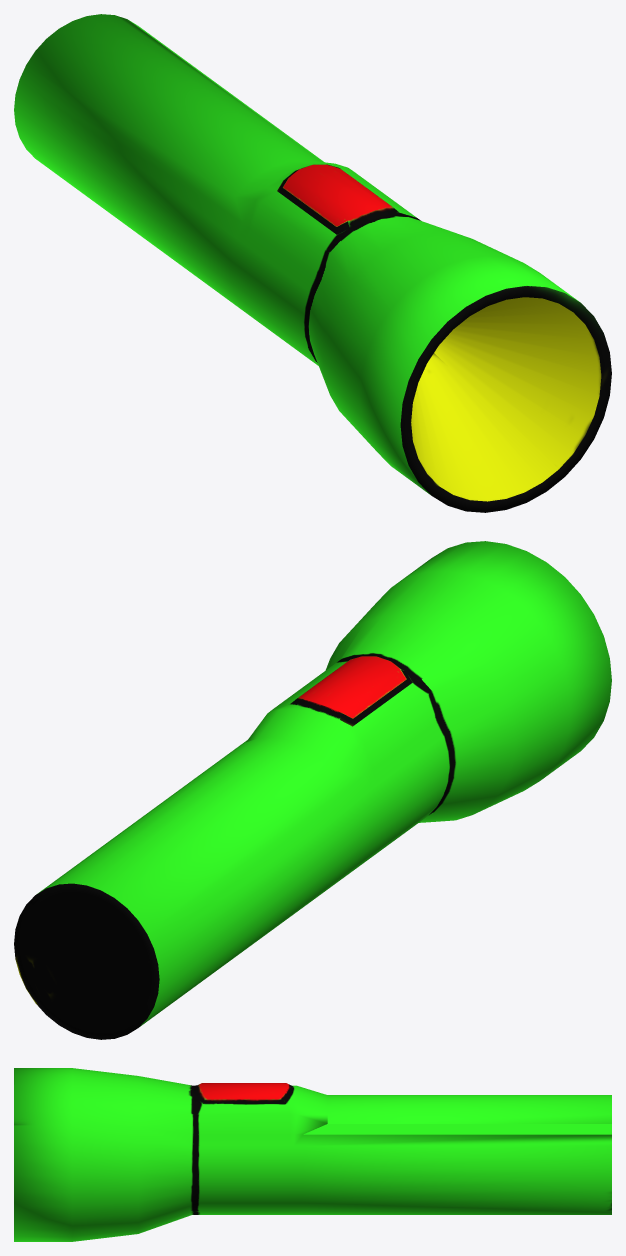
Rendered from flashlight.fbx.
3 views of the same model, one above another, from view 1: azimuth 30°, elevation 25°; view 2: azimuth 150°, elevation 25°; view 3: azimuth 270°, elevation 25° (orthographic). The views are drawn at different scales.
Parts seen in each view (by area): view 1: Flashlught; view 2: Flashlught; view 3: Flashlught.
Boxes of the visible parts, left/top/right/bottom form: Flashlught: left=14, top=14, right=611, bottom=512; Flashlught: left=14, top=541, right=611, bottom=1039; Flashlught: left=14, top=1068, right=611, bottom=1241.
Size of the model in its own units: 290 by 290 by 998.
Materials: 1 (1 with a texture image).
